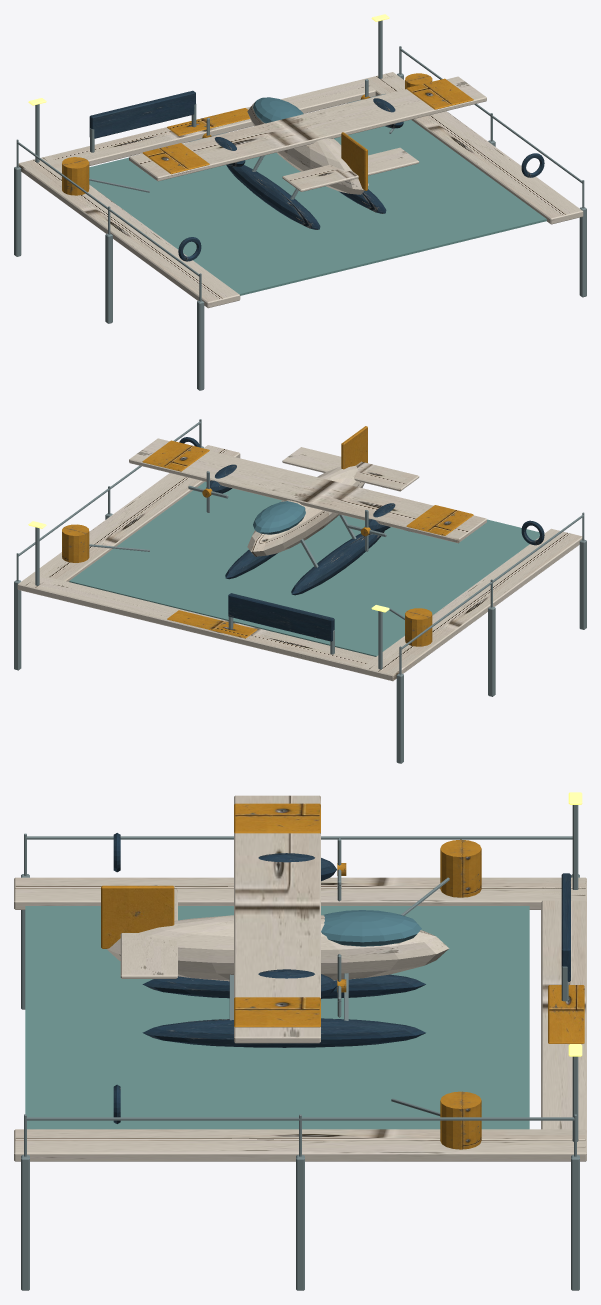
File: greenwater.glb
3 renders of one model, top to bottom at view 1: azimuth 30°, elevation 25°; view 2: azimuth 150°, elevation 25°; view 3: azimuth 270°, elevation 25°, orthographic. The views are drawn at different scales.
Visible parts, largest first — view 1: static_signature_water, static_signature_paint, survey_plane_signature_paint, static_signature_steel, survey_plane_signature_glass; view 2: static_signature_water, static_signature_paint, survey_plane_signature_paint, static_signature_steel, survey_plane_signature_glass; view 3: static_signature_water, static_signature_paint, survey_plane_signature_paint, static_signature_steel, survey_plane_signature_glass.
Boxes of the visible parts, box(x1,y1,x2,y2) form: static_signature_water: box(89, 120, 546, 295); static_signature_paint: box(18, 72, 583, 308); survey_plane_signature_paint: box(129, 76, 486, 229); static_signature_steel: box(14, 20, 586, 390); survey_plane_signature_glass: box(253, 97, 303, 123); static_signature_water: box(69, 481, 539, 656); static_signature_paint: box(17, 437, 582, 681); survey_plane_signature_paint: box(129, 426, 486, 595); static_signature_steel: box(14, 419, 586, 763); survey_plane_signature_glass: box(253, 501, 305, 534); static_signature_water: box(25, 906, 529, 1129); static_signature_paint: box(14, 833, 586, 1161); survey_plane_signature_paint: box(101, 795, 449, 1047); static_signature_steel: box(21, 805, 579, 1290); survey_plane_signature_glass: box(321, 910, 421, 946).
Bounding box in the file's own units: 29.4 × 12.65 × 25.
5 materials, 1 textured.
